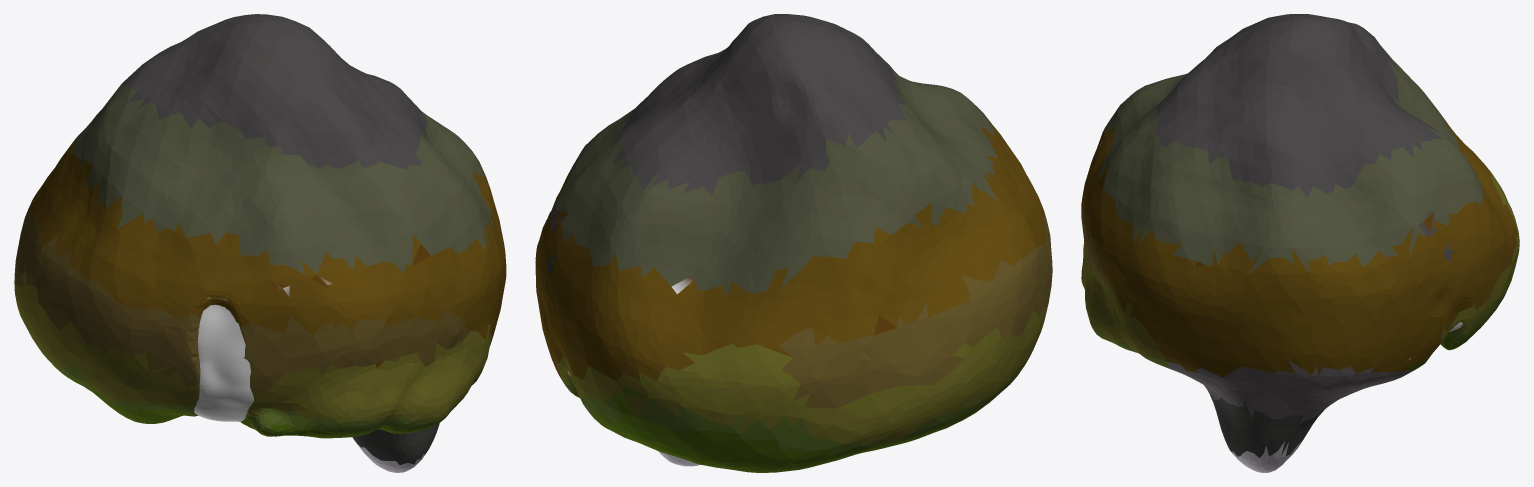
Rendered from islandTest3.fbx.
The picture shows the model from 3 angles, left to right: view 1: azimuth 30°, elevation 25°; view 2: azimuth 150°, elevation 25°; view 3: azimuth 270°, elevation 25°; orthographic projection. The views are drawn at different scales.
Parts seen in each view (by area): view 1: Icosphere, Plane; view 2: Icosphere; view 3: Icosphere.
Boxes of the visible parts, box(x1,y1,x2,y2) form: Icosphere: box(14, 14, 506, 472); Plane: box(194, 297, 253, 421); Icosphere: box(535, 14, 1052, 472); Icosphere: box(1081, 14, 1519, 472).
Bounding box in the file's own units: 1982 × 2062 × 2032.
